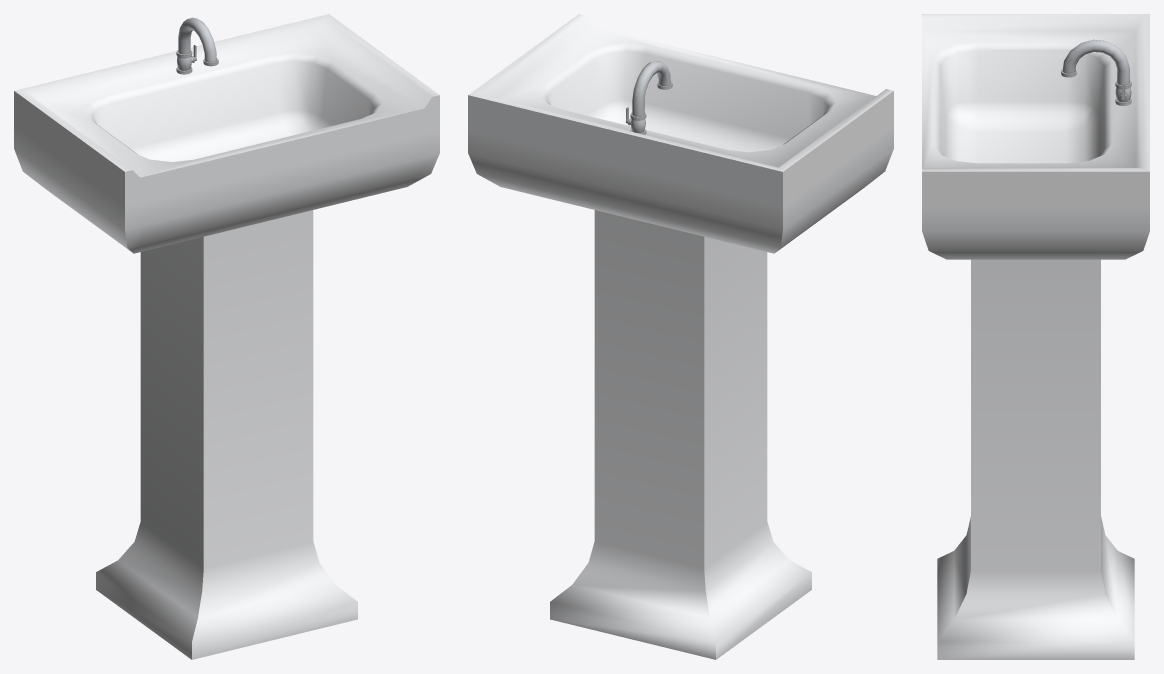
Rendered from washbasin.gltf.
3 renders of one model, left to right at view 1: azimuth 30°, elevation 25°; view 2: azimuth 150°, elevation 25°; view 3: azimuth 270°, elevation 25°, orthographic. The views are drawn at different scales.
Visible parts, largest first — view 1: Sink_C; view 2: Sink_C; view 3: Sink_C.
Part boxes in pixels (bbox=[...]): Sink_C: bbox=[14, 14, 439, 659]; Sink_C: bbox=[468, 14, 893, 659]; Sink_C: bbox=[922, 14, 1149, 659].
Bounding box in the file's own units: 0.5 × 0.8546 × 0.305.
1 material, 1 textured.
